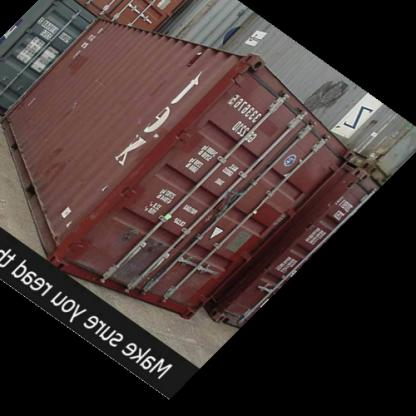Damage: (18, 94, 42, 112), (85, 75, 106, 92), (86, 181, 118, 192), (64, 95, 83, 111)
